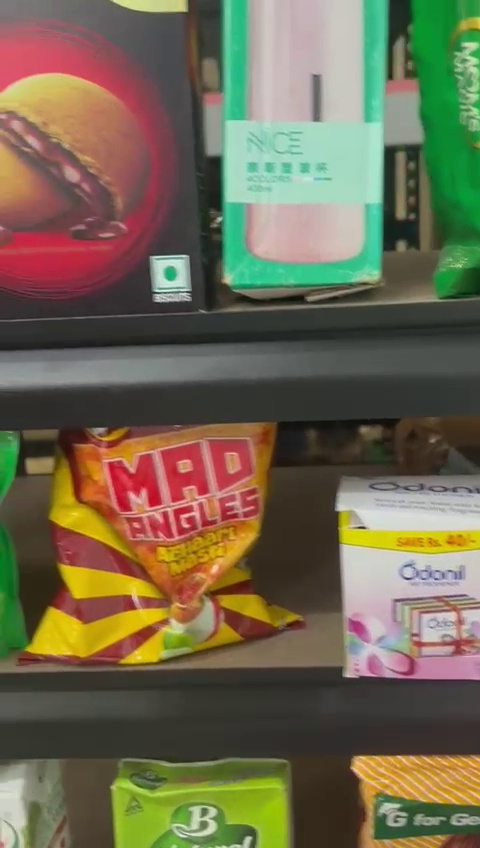Bingo Mad Angles: (51, 435, 298, 666)
